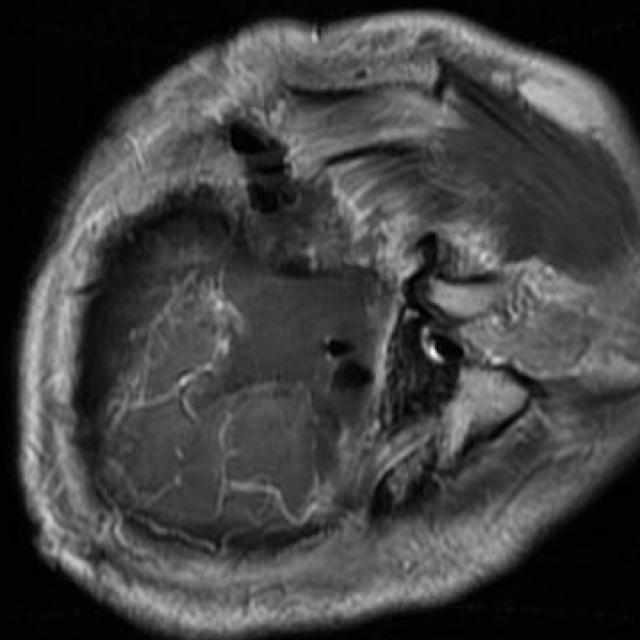glioma: (187, 241, 392, 496)
